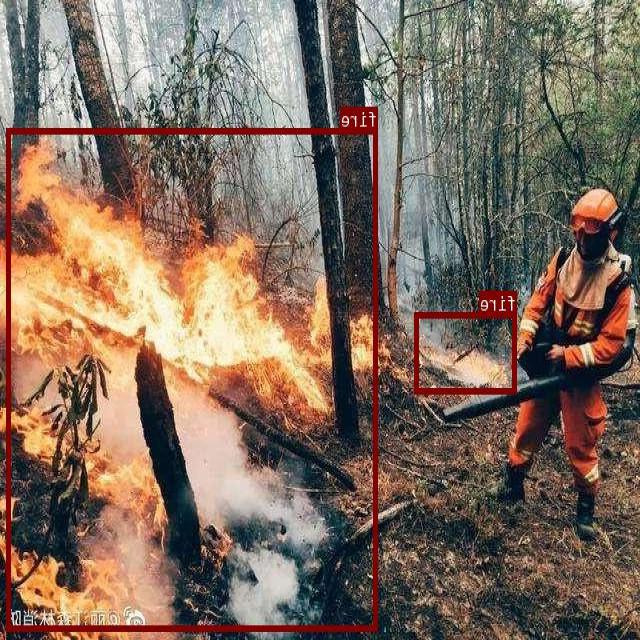fire: (7, 127, 378, 629), (415, 311, 517, 392)
